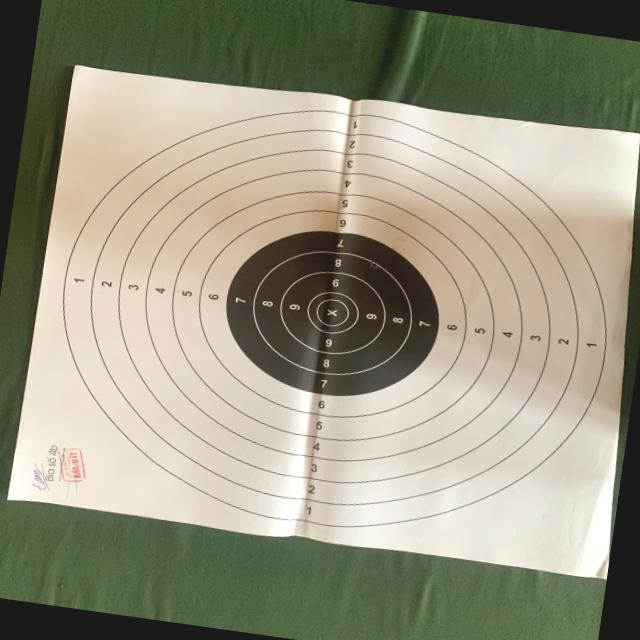bullet: (371, 262, 381, 269)
target: (8, 66, 639, 578)
